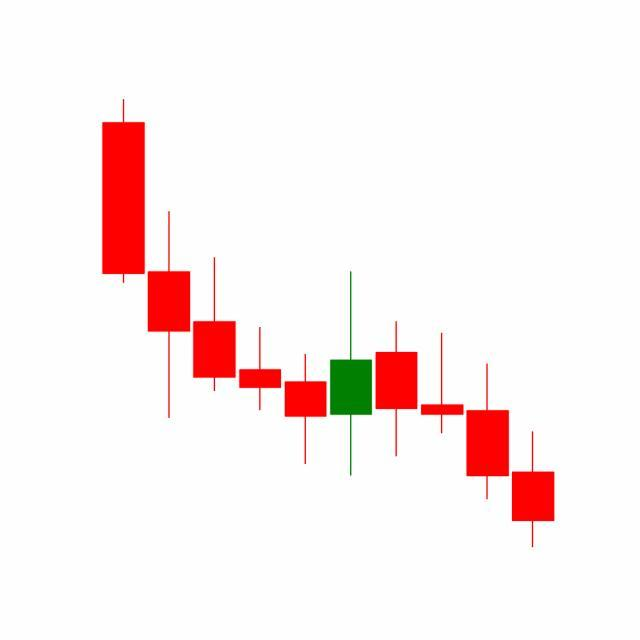Hikkake Pattern: (283, 269, 512, 502)
